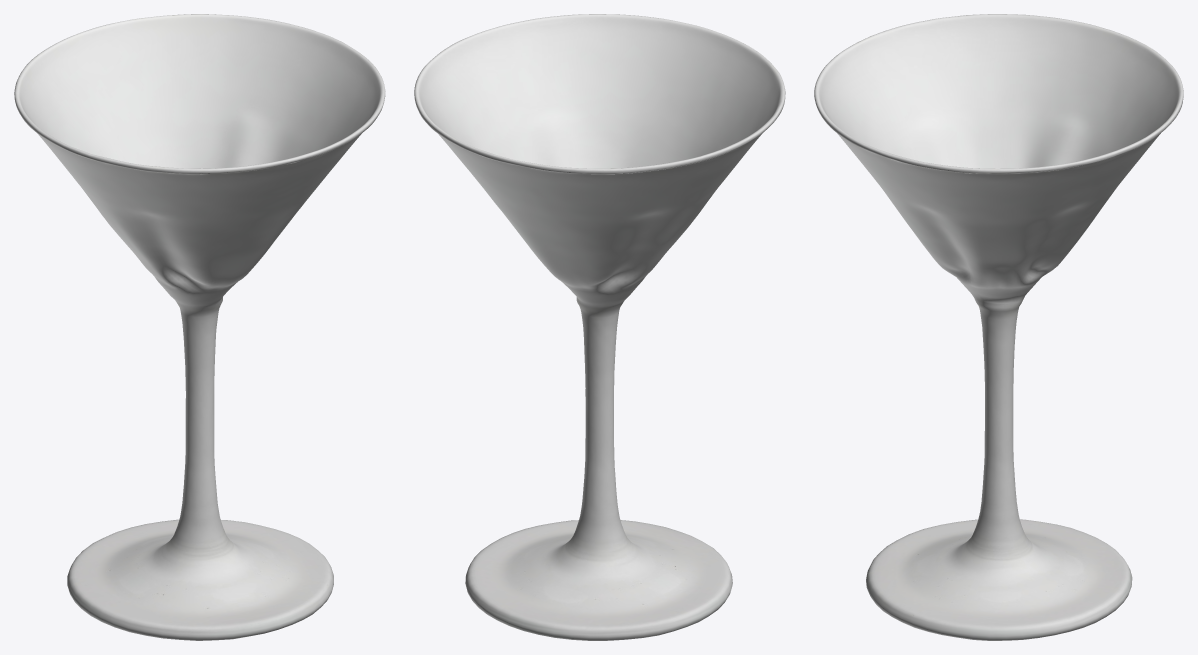
Rendered from model_martini_glass.glb.
The picture shows the model from 3 angles, left to right: view 1: azimuth 30°, elevation 25°; view 2: azimuth 150°, elevation 25°; view 3: azimuth 270°, elevation 25°; orthographic projection.
Visible parts, largest first — view 1: tripo_node_8dca4ca7-ccf6-44da-8c92-0fd09472121c; view 2: tripo_node_8dca4ca7-ccf6-44da-8c92-0fd09472121c; view 3: tripo_node_8dca4ca7-ccf6-44da-8c92-0fd09472121c.
Boxes of the visible parts, x1,y1,x2,y2 form: tripo_node_8dca4ca7-ccf6-44da-8c92-0fd09472121c: [14, 14, 385, 640]; tripo_node_8dca4ca7-ccf6-44da-8c92-0fd09472121c: [414, 14, 785, 640]; tripo_node_8dca4ca7-ccf6-44da-8c92-0fd09472121c: [814, 14, 1183, 640].
Size of the model in its own units: 0.6805 by 0.9998 by 0.6781.
1 material, 1 textured.
